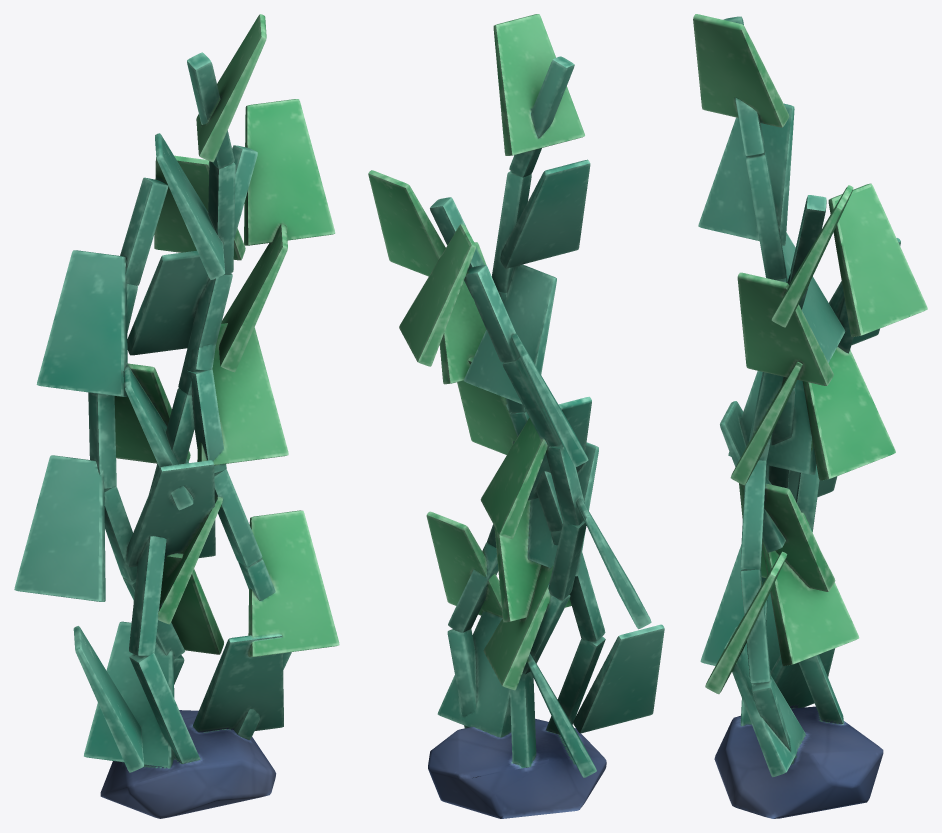
Rendered from Abysses_Algue.fbx.
3 views of the same model, side by side, from view 1: azimuth 30°, elevation 25°; view 2: azimuth 150°, elevation 25°; view 3: azimuth 270°, elevation 25° (orthographic). The views are drawn at different scales.
Parts seen in each view (by area): view 1: Abysses_Algue; view 2: Abysses_Algue; view 3: Abysses_Algue.
Boxes of the visible parts, box(x1,y1,x2,y2) form: Abysses_Algue: box(14, 14, 339, 818); Abysses_Algue: box(368, 14, 664, 818); Abysses_Algue: box(693, 14, 927, 818).
Size of the model in its own units: 592 by 1481 by 404.
Materials: 1 (1 with a texture image).
